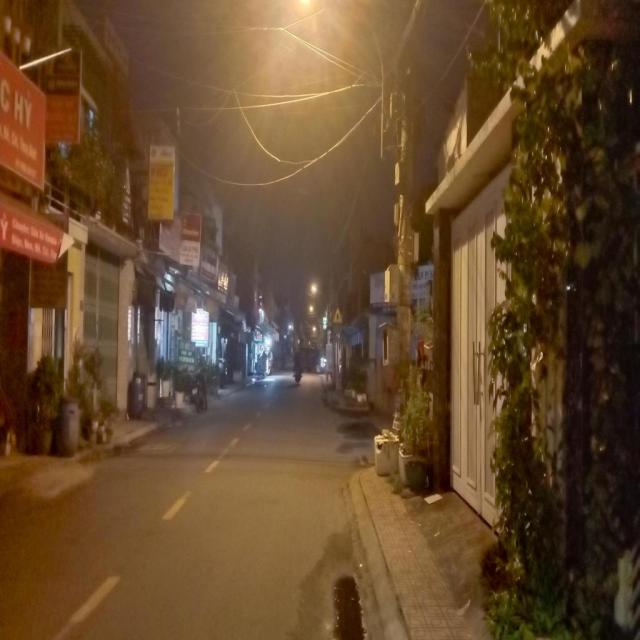giao_nhau_voi_duong_khong_uu_tien: (332, 307, 344, 325)
